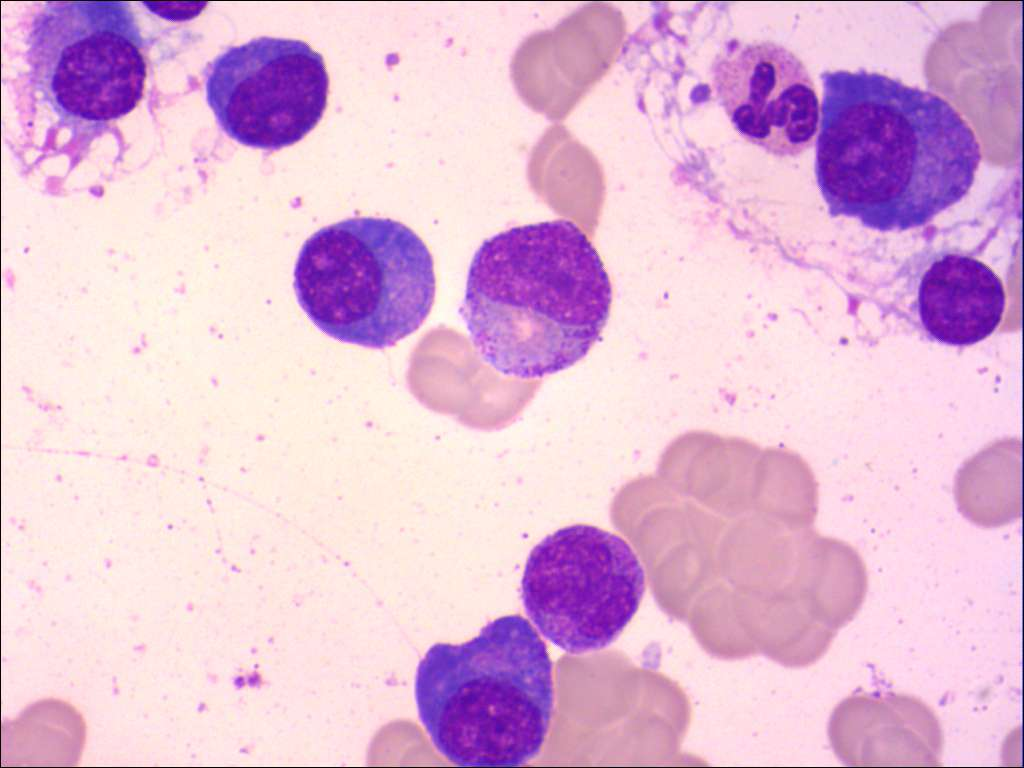4: (455, 215, 615, 382)
42: (517, 520, 649, 659)
51: (812, 65, 986, 233), (411, 612, 556, 768), (289, 211, 441, 355), (200, 30, 333, 154)
x: (20, 1, 153, 143), (707, 35, 823, 163), (897, 242, 1011, 350)
